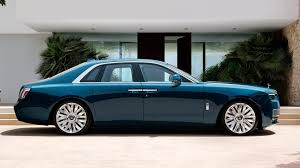car: (12, 58, 285, 137)
